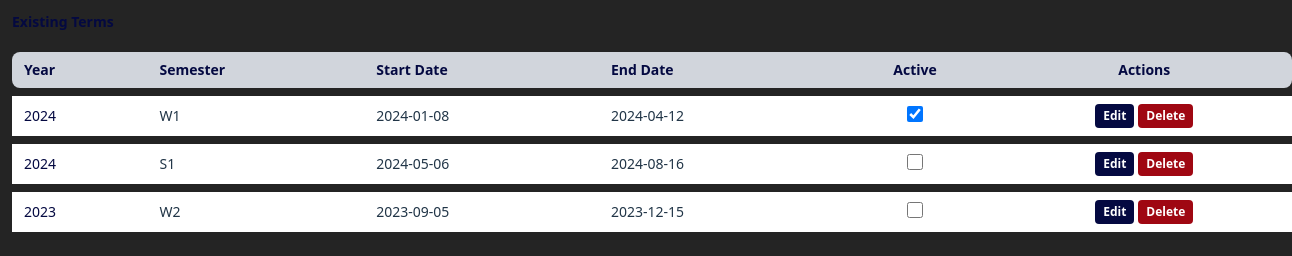
Test case: ExistingTermsTable › cancels edit mode when Cancel button is clicked
The width and height of the screenshot is (1292, 256).
Click the button "Edit" in the row of "W1" at (1115, 116), box [1095,104,1134,128]
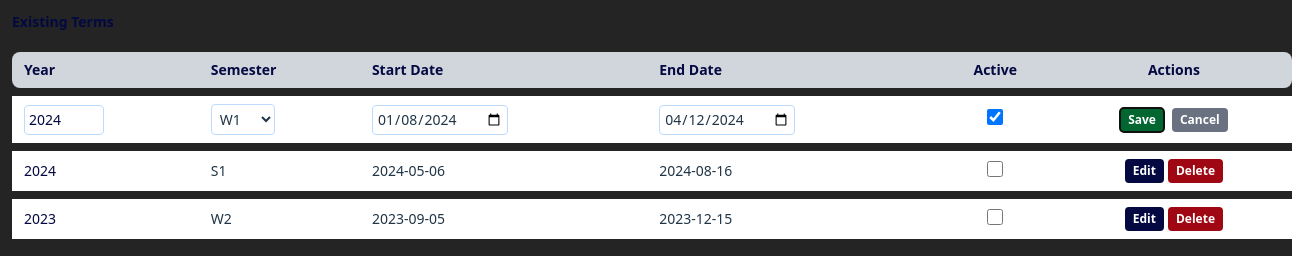
Click the button "Cancel" at (1200, 120), box [1172,108,1228,132]
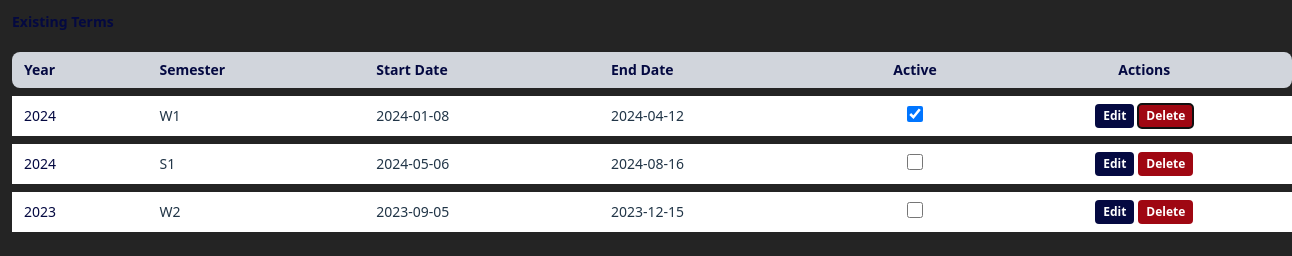
Now the button "Save" is gone
Now the button "Cancel" is gone
Now the number of buttons "Edit" is 3, box [1095,104,1134,128]; [1095,152,1134,176]; [1095,200,1134,224]
